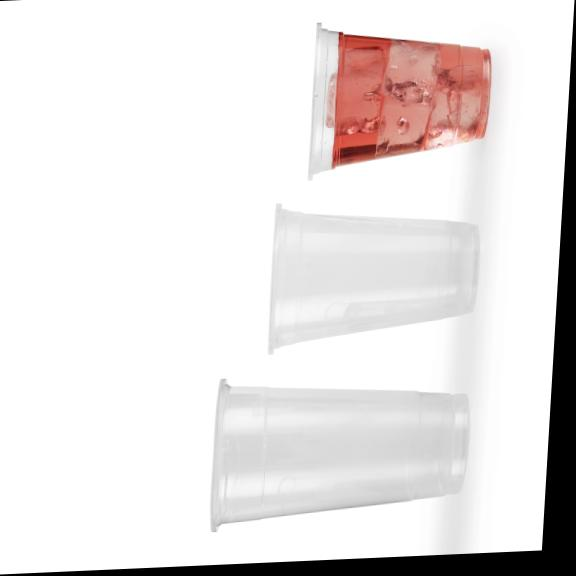Plastik: (215, 390, 470, 507), (271, 226, 471, 329), (311, 46, 491, 144)
